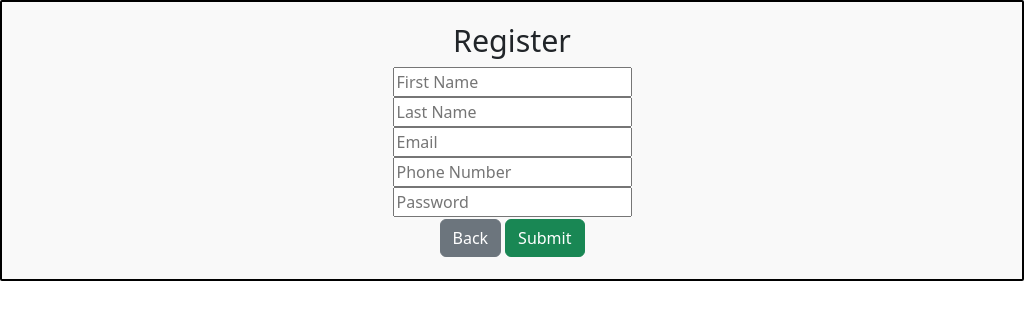
Submits form Phone number not valid
Type "Ditte" into the field with placeholder "First Name" at coordinates (512, 82), box [392, 66, 632, 96]
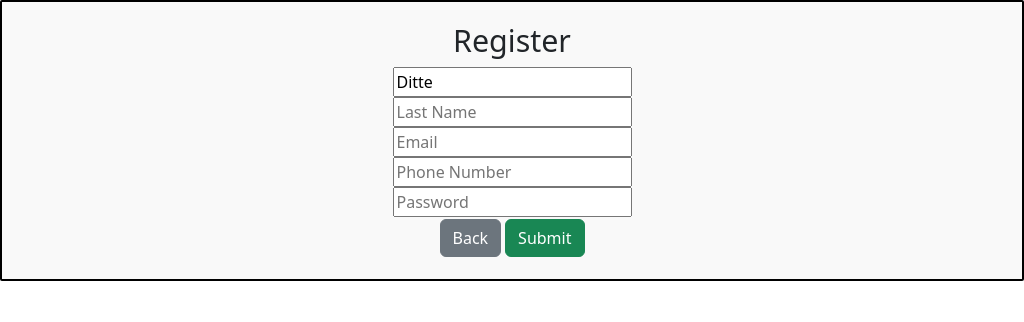
Type "Hej" into the field with placeholder "Last Name" at coordinates (512, 112), box [392, 96, 632, 126]
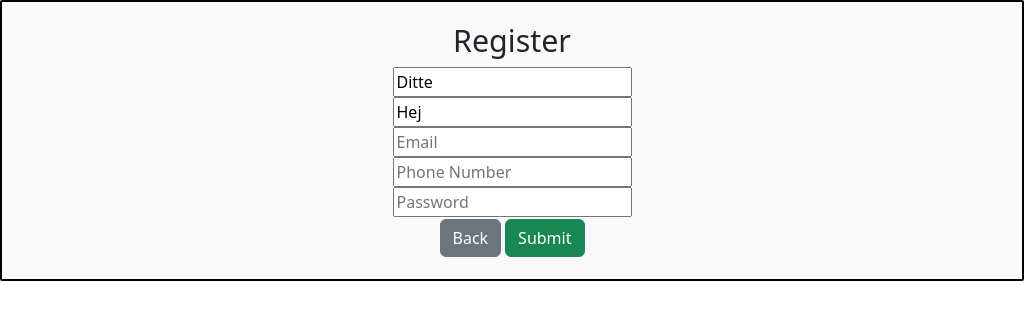
Type "Ditte@example.com" into the field with placeholder "Email" at coordinates (512, 142), box [392, 126, 632, 156]
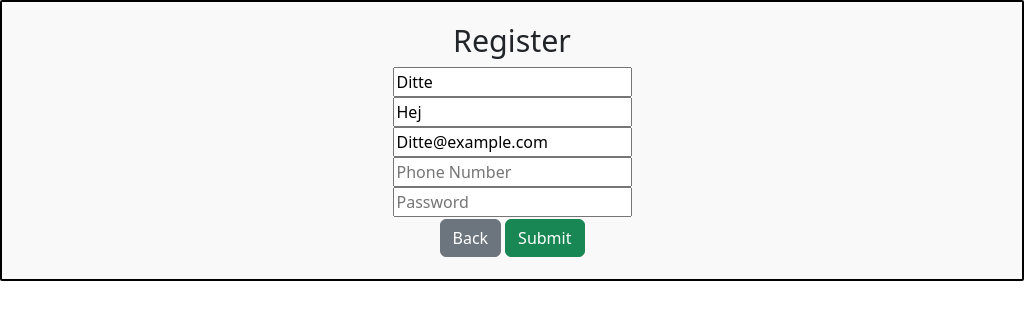
Type "15678" into the field with placeholder "Phone Number" at coordinates (512, 172), box [392, 156, 632, 186]
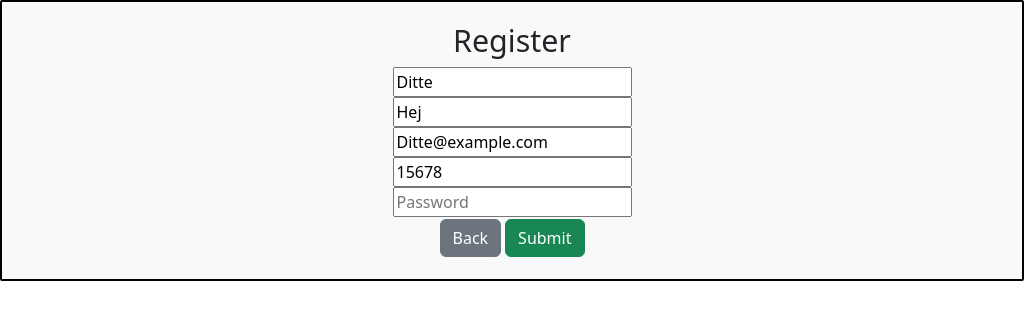
Type "password" into the password field with placeholder "Password" at coordinates (512, 202), box [392, 186, 632, 216]
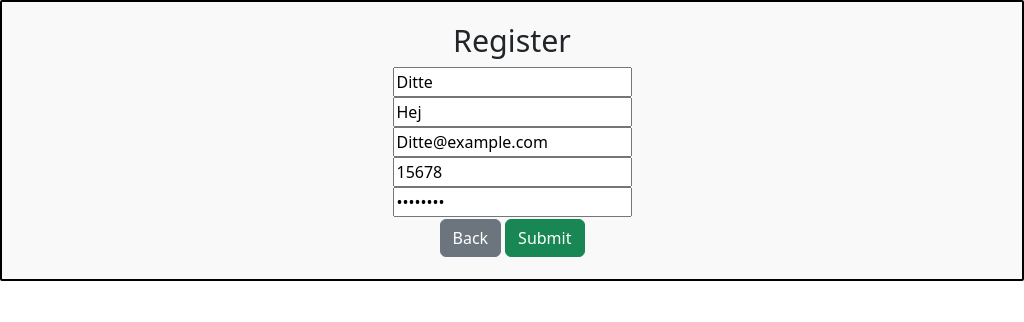
Click the button "Submit" at coordinates (545, 238), box [505, 218, 584, 256]
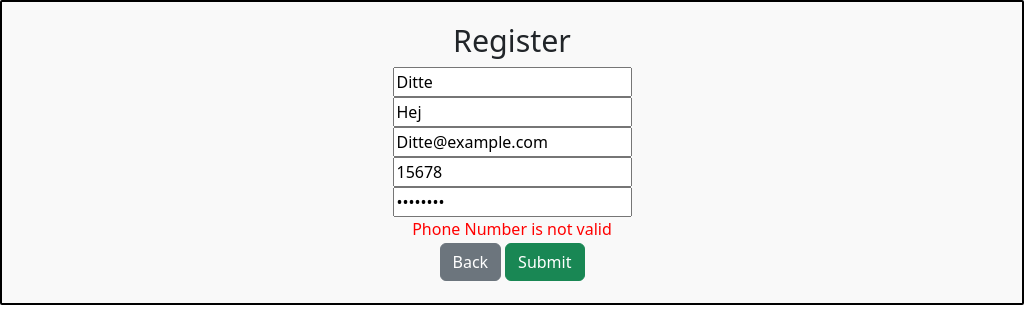
expect the text "Phone Number is not valid" is shown: met, box [412, 218, 612, 240]
